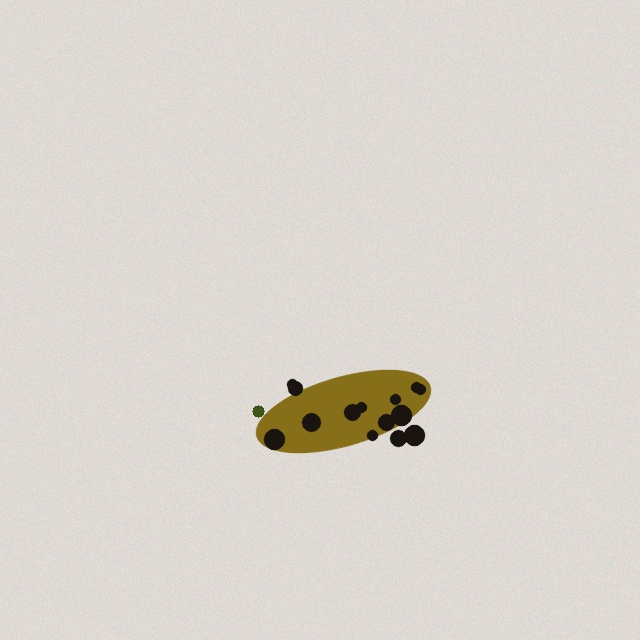Rotten banana: (249, 369, 437, 453)
